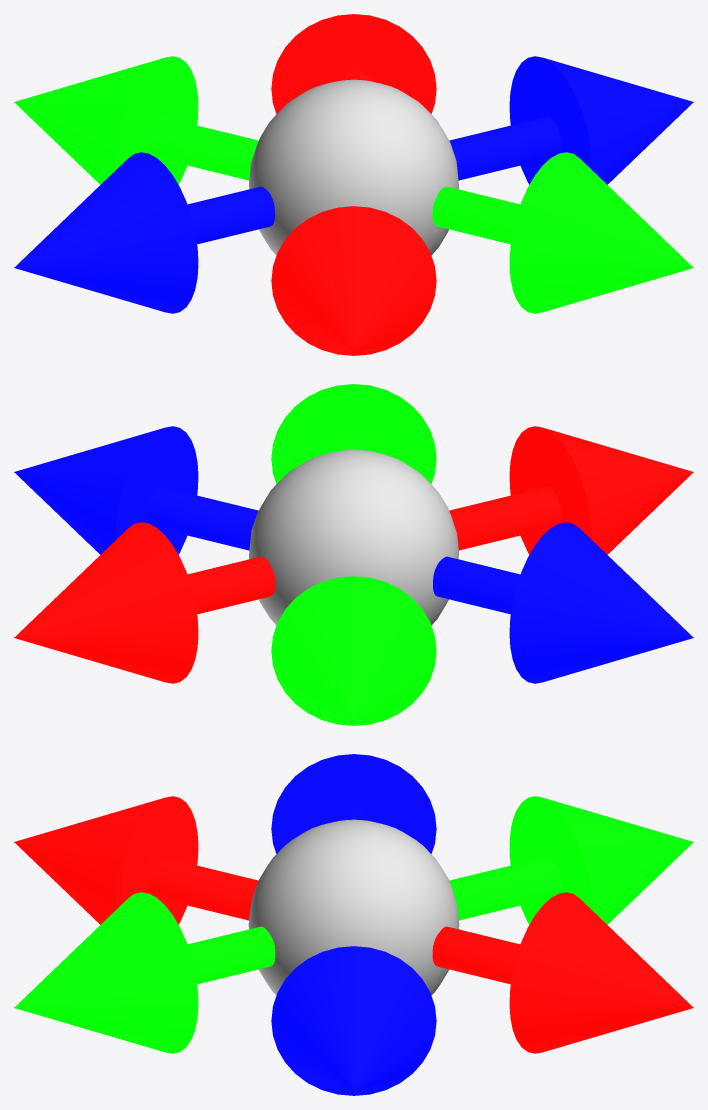
Rendered from translate.fbx.
3 renders of one model, top to bottom at view 1: azimuth 30°, elevation 25°; view 2: azimuth 150°, elevation 25°; view 3: azimuth 270°, elevation 25°, orthographic.
Visible parts, largest first — view 1: Sphere, Cone.003, Cone, Cone.004, Cone.001, Cone.005, Cone.002, Cylinder.004, Cylinder.008, Cylinder.007, Cylinder.003; view 2: Sphere, Cone.001, Cone, Cone.002, Cone.003, Cone.005, Cone.004, Cylinder.006, Cylinder.008, Cylinder.005, Cylinder.003; view 3: Sphere, Cone.005, Cone.002, Cone.004, Cone.001, Cone.003, Cone, Cylinder.004, Cylinder.006, Cylinder.005, Cylinder.007.
Boxes of the visible parts, x1,y1,x2,y2 form: Sphere: (249, 79, 458, 255); Cone.003: (271, 206, 436, 355); Cone: (14, 152, 198, 313); Cone.004: (509, 152, 693, 313); Cone.001: (14, 56, 198, 184); Cone.005: (509, 56, 693, 184); Cone.002: (271, 14, 436, 113); Cylinder.004: (147, 117, 258, 180); Cylinder.008: (449, 117, 560, 180); Cylinder.007: (432, 186, 520, 244); Cylinder.003: (187, 186, 274, 244); Sphere: (249, 449, 458, 625); Cone.001: (271, 576, 436, 725); Cone: (509, 522, 693, 683); Cone.002: (14, 522, 198, 683); Cone.003: (509, 426, 693, 554); Cone.005: (14, 426, 198, 554); Cone.004: (271, 384, 436, 483); Cylinder.006: (449, 487, 560, 550); Cylinder.008: (147, 487, 258, 550); Cylinder.005: (187, 556, 275, 614); Cylinder.003: (433, 556, 520, 614); Sphere: (248, 819, 459, 995); Cone.005: (271, 946, 436, 1095); Cone.002: (509, 892, 693, 1053); Cone.004: (14, 892, 198, 1053); Cone.001: (509, 796, 693, 924); Cone.003: (14, 796, 198, 924); Cone: (271, 754, 436, 853); Cylinder.004: (449, 857, 560, 920); Cylinder.006: (147, 857, 258, 920); Cylinder.005: (432, 926, 520, 984); Cylinder.007: (187, 926, 275, 984).
Size of the model in its own units: 760 by 204 by 658.
